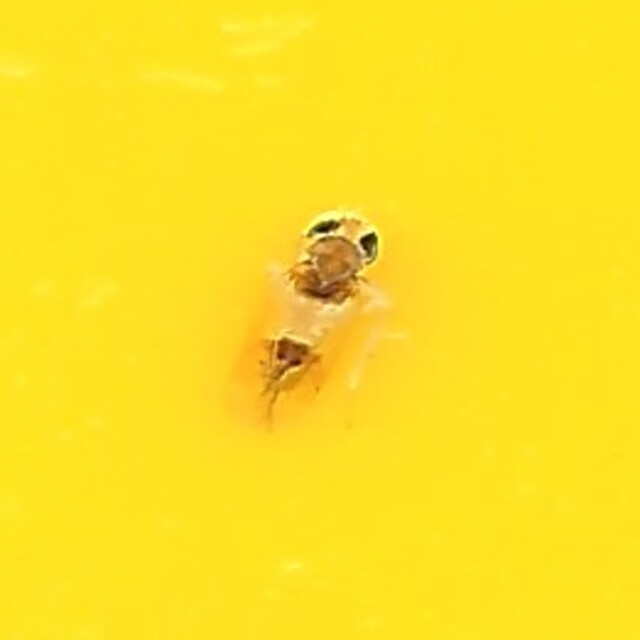Hemiptera: (245, 208, 395, 432)
